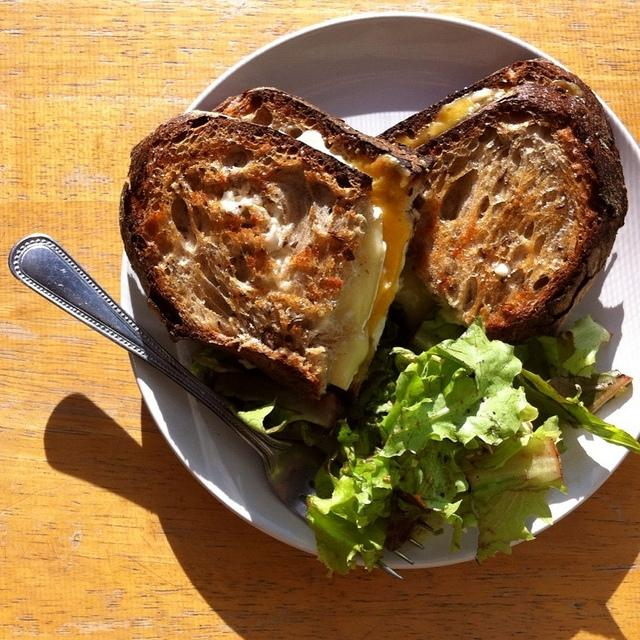lettuce: (436, 316, 523, 398), (331, 496, 391, 534), (432, 500, 463, 554)
